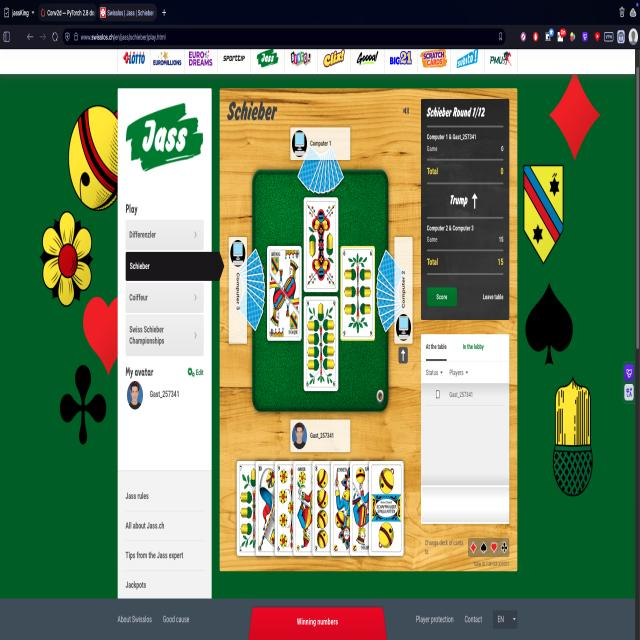ei7: (238, 464, 270, 557)
ei9: (304, 298, 338, 391)
eia: (304, 197, 338, 294)
eik: (341, 247, 376, 342)
rok: (351, 460, 387, 558), (274, 464, 311, 557)
roo: (293, 462, 328, 555)
se8: (312, 465, 347, 557)
sea: (370, 460, 404, 558)
seu: (331, 460, 364, 558)
si10: (256, 462, 287, 557)
sik: (267, 246, 301, 339)
